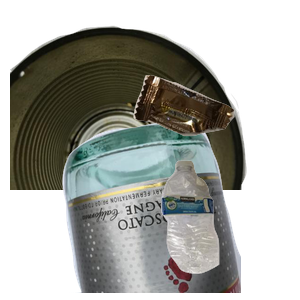glass: (60, 120, 300, 300)
metal: (10, 23, 250, 203)
plastic: (159, 158, 300, 300)
trash: (131, 73, 300, 202)
